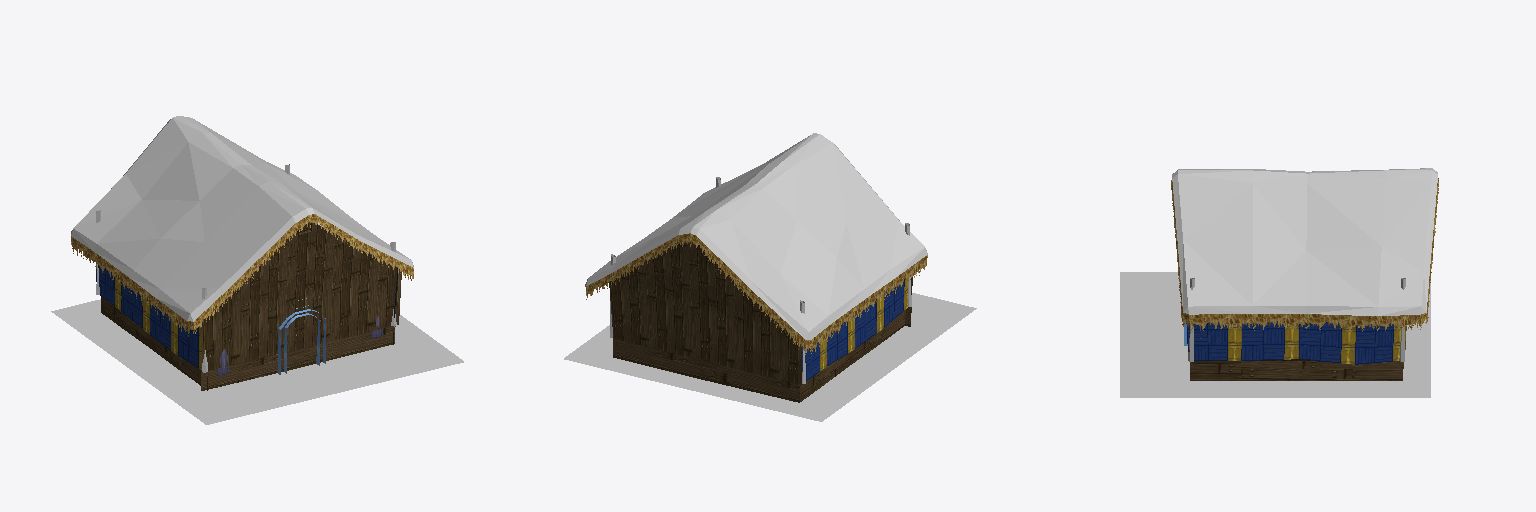
The picture shows the model from 3 angles: view 1: azimuth 30°, elevation 25°; view 2: azimuth 150°, elevation 25°; view 3: azimuth 270°, elevation 25°; orthographic projection.
Visible parts, largest first — view 1: obj_roof_straw_ver22, obj_wood_dutch052, obj_ground_day2, obj_roof_straw_fringe_ver22, obj_squid_chair2, obj_bathroom_rev2; view 2: obj_roof_straw_ver22, obj_wood_dutch052, obj_ground_day2, obj_roof_straw_fringe_ver22, obj_squid_chair2; view 3: obj_roof_straw_ver22, obj_ground_day2, obj_squid_chair2, obj_wood_dutch052, obj_roof_straw_fringe_ver22.
Part boxes in pixels (bbox=[...]): obj_roof_straw_ver22: bbox=[71, 116, 413, 321]; obj_wood_dutch052: bbox=[101, 222, 401, 390]; obj_ground_day2: bbox=[51, 299, 463, 424]; obj_roof_straw_fringe_ver22: bbox=[71, 214, 413, 336]; obj_squid_chair2: bbox=[96, 265, 397, 369]; obj_bathroom_rev2: bbox=[278, 309, 325, 374]; obj_roof_straw_ver22: bbox=[585, 133, 927, 339]; obj_wood_dutch052: bbox=[609, 242, 912, 402]; obj_ground_day2: bbox=[564, 293, 976, 421]; obj_roof_straw_fringe_ver22: bbox=[585, 233, 927, 354]; obj_squid_chair2: bbox=[802, 278, 908, 380]; obj_roof_straw_ver22: bbox=[1172, 168, 1437, 315]; obj_ground_day2: bbox=[1120, 272, 1430, 397]; obj_squid_chair2: bbox=[1186, 321, 1406, 364]; obj_wood_dutch052: bbox=[1188, 328, 1403, 380]; obj_roof_straw_fringe_ver22: bbox=[1171, 178, 1438, 331].
Size of the model in its own units: 19.04 by 11.95 by 20.34.
Materials: 10 (7 with a texture image).